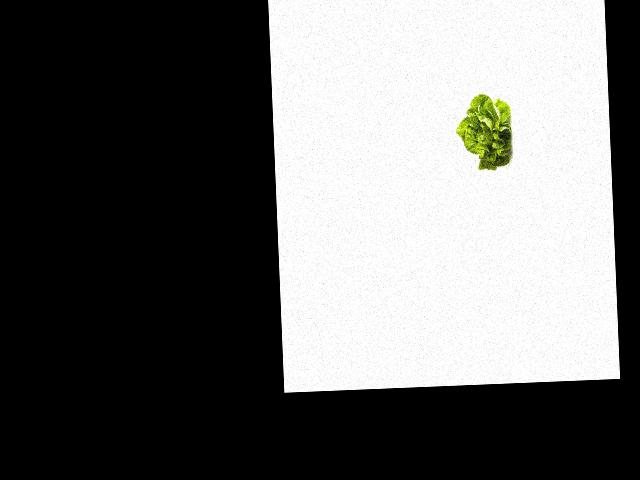lettuce: (455, 90, 513, 173)
